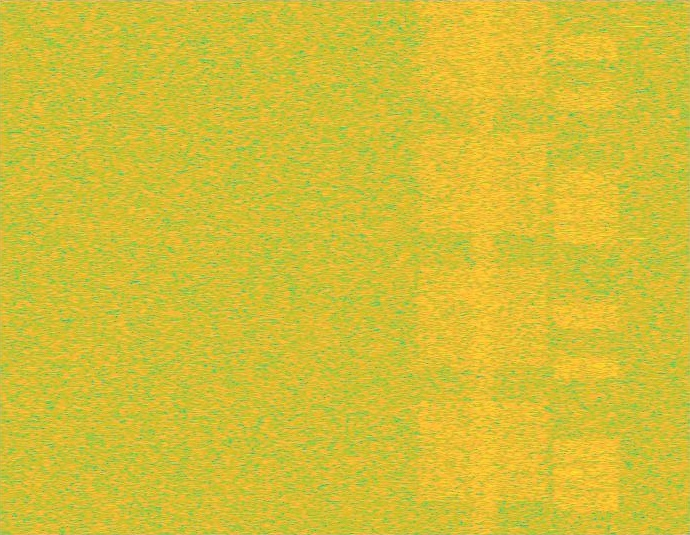5G: (414, 0, 552, 534)
DSSS: (467, 0, 499, 534)
LTE: (552, 0, 621, 534)
Radar: (631, 0, 644, 534)
